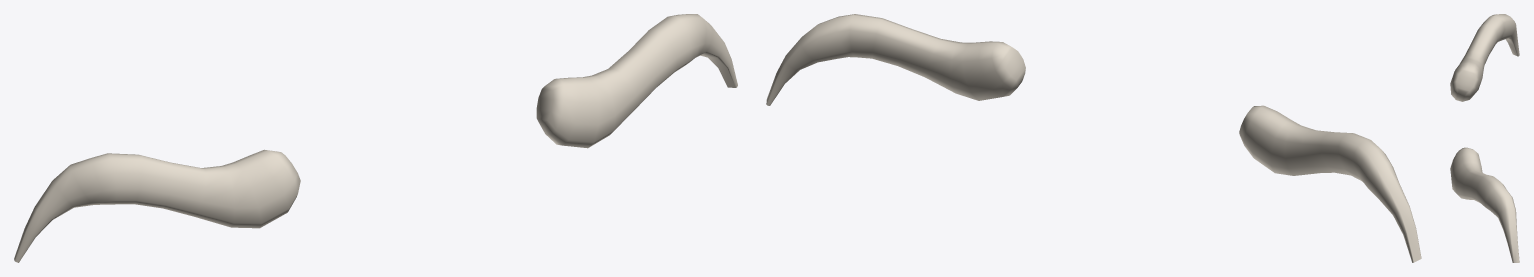
Rendered from Eyebrows_27_07.fbx.
3 views of the same model, side by side, from view 1: azimuth 30°, elevation 25°; view 2: azimuth 150°, elevation 25°; view 3: azimuth 270°, elevation 25° (orthographic). The views are drawn at different scales.
Visible parts, largest first — view 1: Eyebrows_27_07; view 2: Eyebrows_27_07; view 3: Eyebrows_27_07.
Part boxes in pixels (x1,y1,x2,y2): Eyebrows_27_07: (14, 14, 737, 262); Eyebrows_27_07: (766, 14, 1421, 262); Eyebrows_27_07: (1450, 14, 1519, 262).
Bounding box in the file's own units: 18.72 × 2.55 × 2.61.
